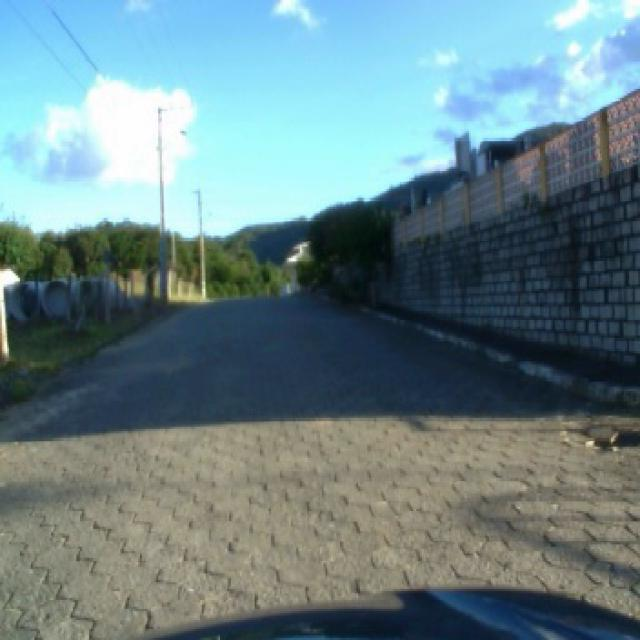Poth-hole: (565, 420, 640, 453)
